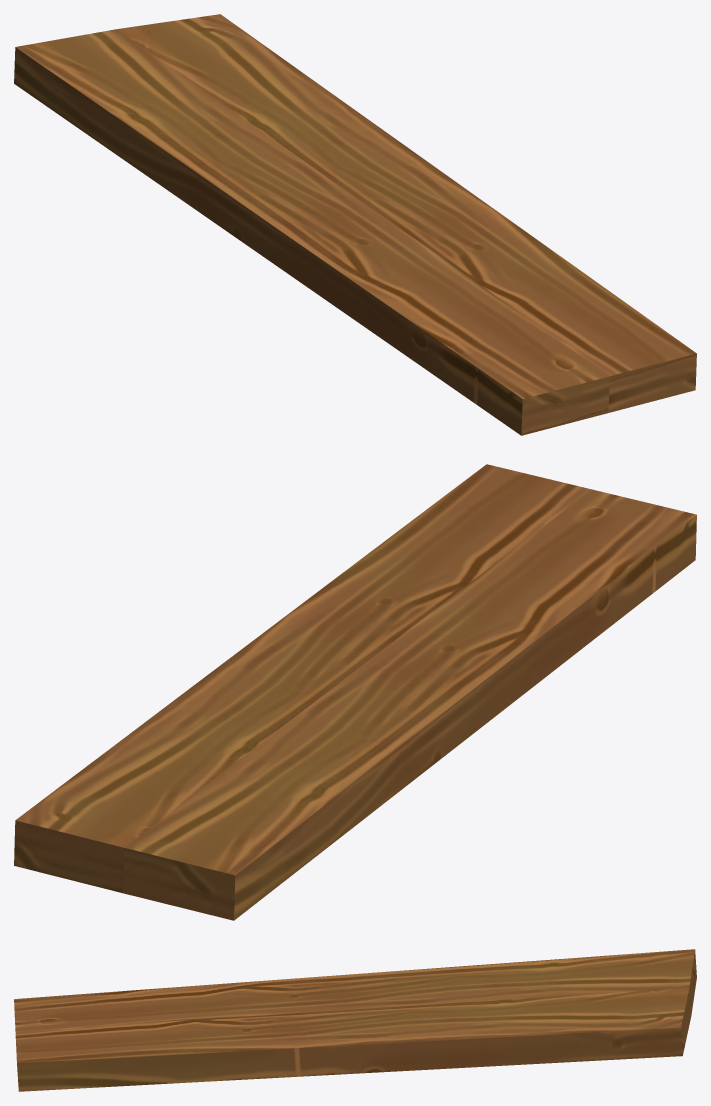
The picture shows the model from 3 angles, top to bottom: view 1: azimuth 30°, elevation 25°; view 2: azimuth 150°, elevation 25°; view 3: azimuth 270°, elevation 25°; orthographic projection. The views are drawn at different scales.
Parts seen in each view (by area): view 1: Cube.872; view 2: Cube.872; view 3: Cube.872.
Boxes of the visible parts, x1,y1,x2,y2 form: Cube.872: (14,14,696,435); Cube.872: (14,464,696,920); Cube.872: (14,949,696,1091).
Bounding box in the file's own units: 69.73 × 21.32 × 232.
Materials: 1 (1 with a texture image).
